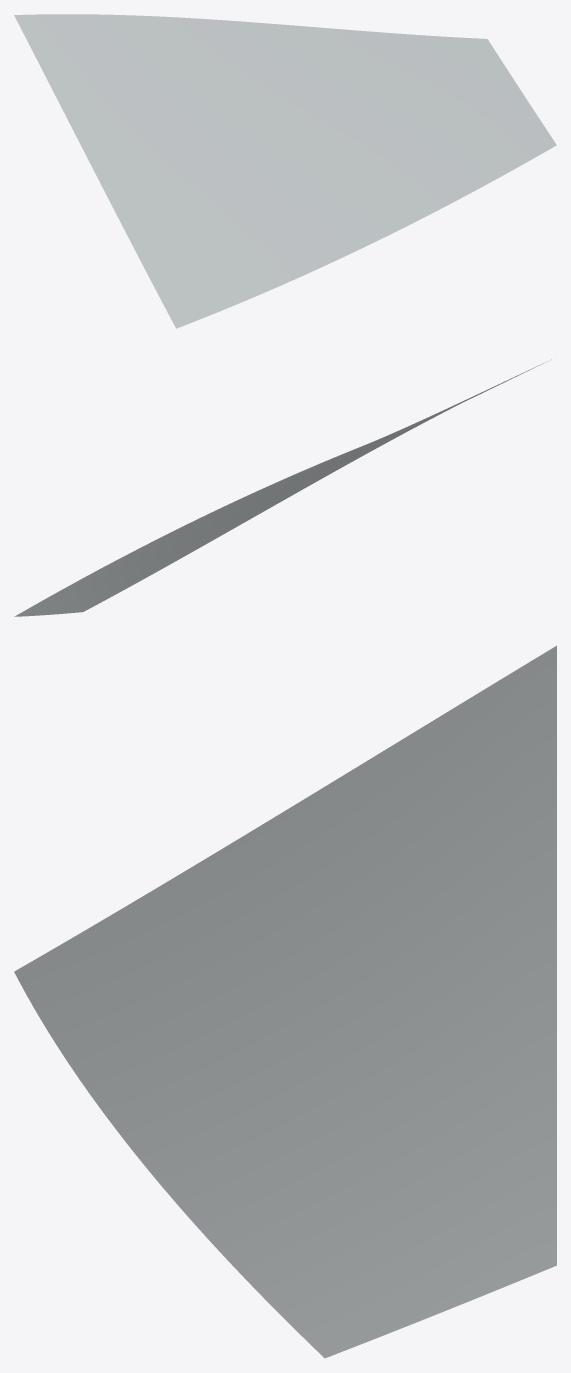
The model's file is alpine-9-9.glb.
3 views of the same model, one above another, from view 1: azimuth 30°, elevation 25°; view 2: azimuth 210°, elevation 25°; view 3: azimuth 270°, elevation 25° (orthographic). The views are drawn at different scales.
Visible parts, largest first — view 1: alpine-9-9; view 2: alpine-9-9; view 3: alpine-9-9.
Part boxes in pixels (x1,y1,x2,y2): alpine-9-9: (14, 14, 556, 328); alpine-9-9: (14, 359, 551, 616); alpine-9-9: (14, 645, 556, 1358).
Size of the model in its own units: 256 by 101 by 152.
Materials: 1 (1 with a texture image).
